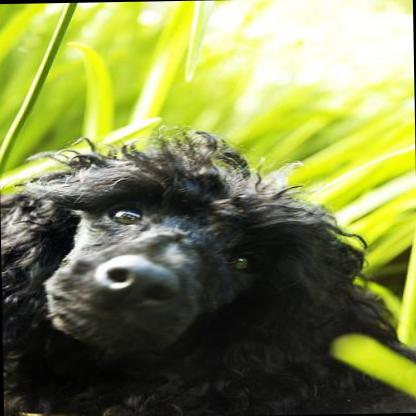miniature_poodle: (0, 120, 415, 416)
